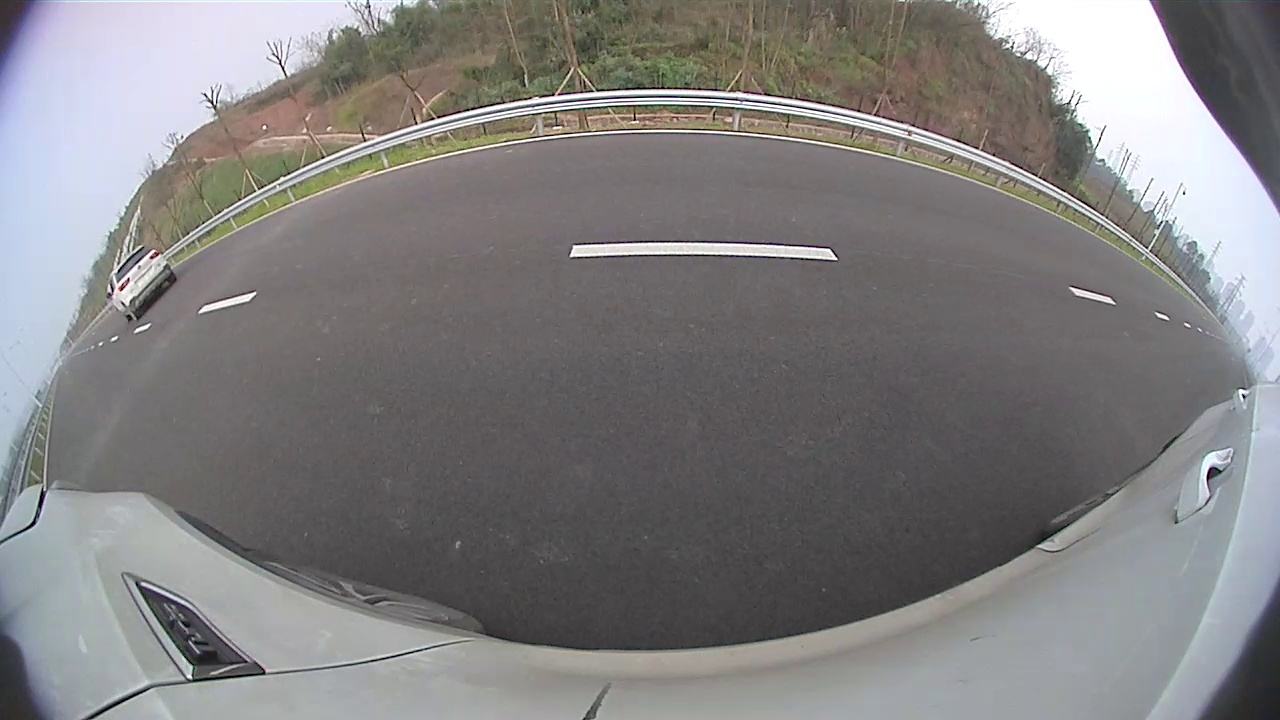car: (106, 243, 177, 323)
